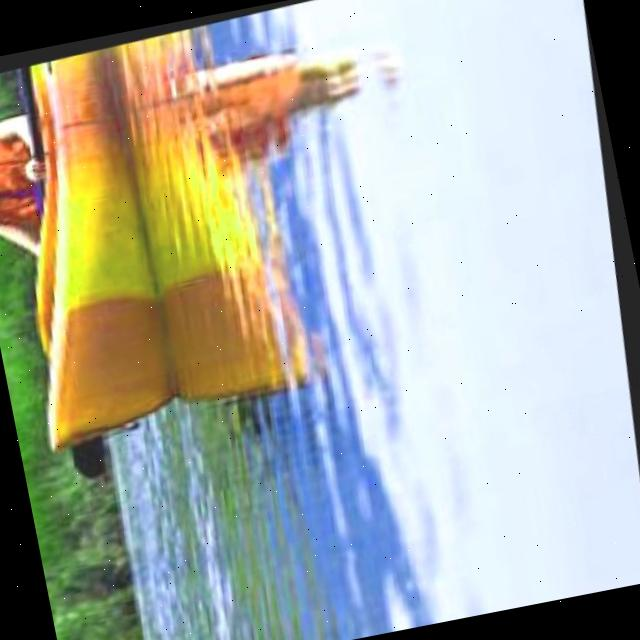kayak: (25, 45, 177, 446)
